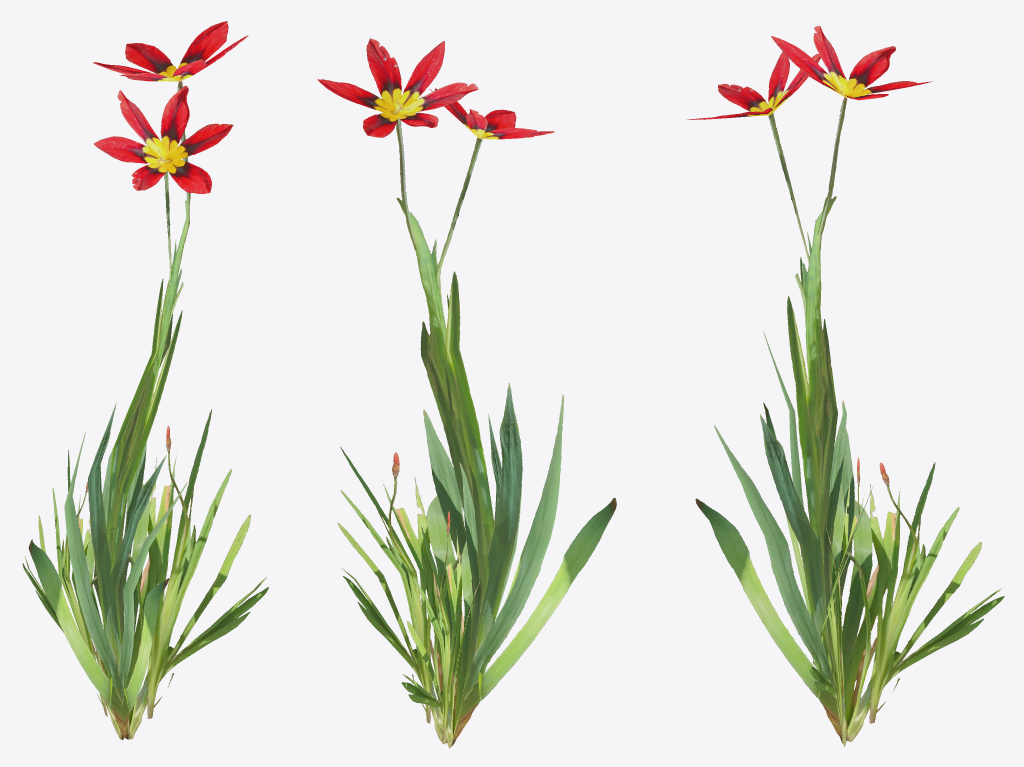
The model's file is m_flower31.fbx.
The picture shows the model from 3 angles, left to right: view 1: azimuth 30°, elevation 25°; view 2: azimuth 150°, elevation 25°; view 3: azimuth 270°, elevation 25°; orthographic projection. The views are drawn at different scales.
Visible parts, largest first — view 1: mesh_flower31; view 2: mesh_flower31; view 3: mesh_flower31.
Part boxes in pixels (bbox=[...]): mesh_flower31: bbox=[22, 21, 268, 740]; mesh_flower31: bbox=[317, 38, 616, 748]; mesh_flower31: bbox=[687, 25, 1004, 746].
Bounding box in the file's own units: 0.165 × 0.3788 × 0.158.
Materials: 1 (1 with a texture image).
